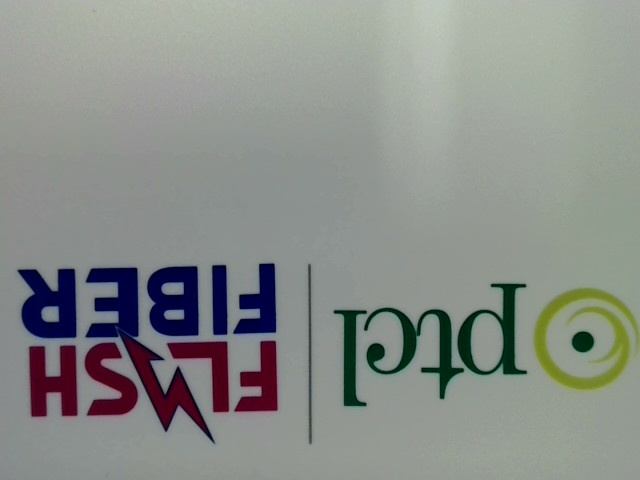BF_PTCL: (329, 270, 638, 409)
